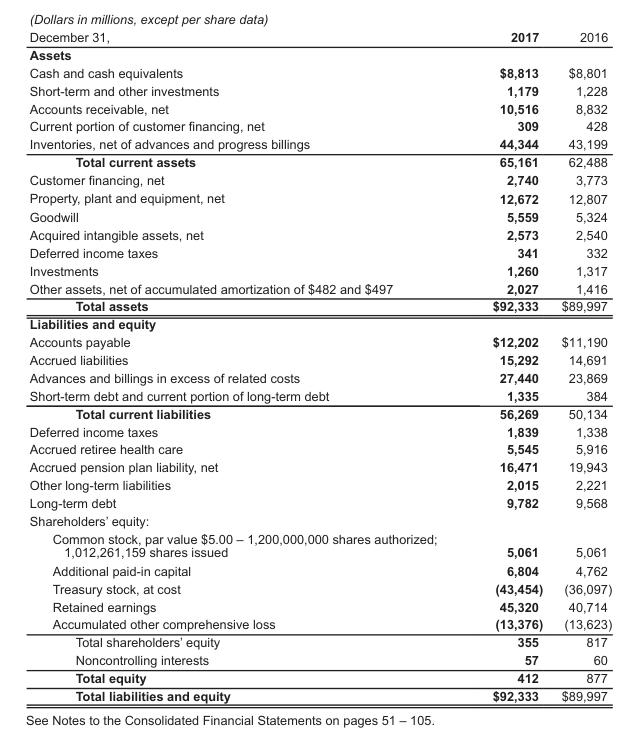table: (28, 29, 611, 702)
table column: (28, 29, 464, 702), (464, 29, 551, 702), (551, 29, 611, 702)
table column header: (28, 29, 611, 45)
table projected row header: (28, 45, 611, 63), (28, 314, 611, 332), (28, 511, 611, 529)
table row: (28, 529, 611, 561), (28, 188, 611, 207), (28, 45, 611, 63), (28, 63, 611, 81), (28, 81, 611, 99), (28, 99, 611, 117), (28, 134, 611, 152), (28, 152, 611, 170), (28, 170, 611, 188), (28, 207, 611, 225), (28, 225, 611, 243), (28, 243, 611, 261), (28, 261, 611, 279), (28, 279, 611, 297), (28, 314, 611, 332), (28, 332, 611, 350), (28, 350, 611, 368), (28, 368, 611, 386), (28, 386, 611, 404), (28, 404, 611, 422), (28, 422, 611, 440), (28, 440, 611, 458), (28, 475, 611, 493), (28, 493, 611, 511), (28, 511, 611, 529), (28, 561, 611, 579), (28, 579, 611, 597), (28, 597, 611, 615), (28, 632, 611, 650), (28, 650, 611, 668), (28, 668, 611, 686), (28, 117, 611, 134), (28, 297, 611, 314), (28, 458, 611, 475), (28, 615, 611, 632), (28, 29, 611, 45), (28, 686, 611, 702)
